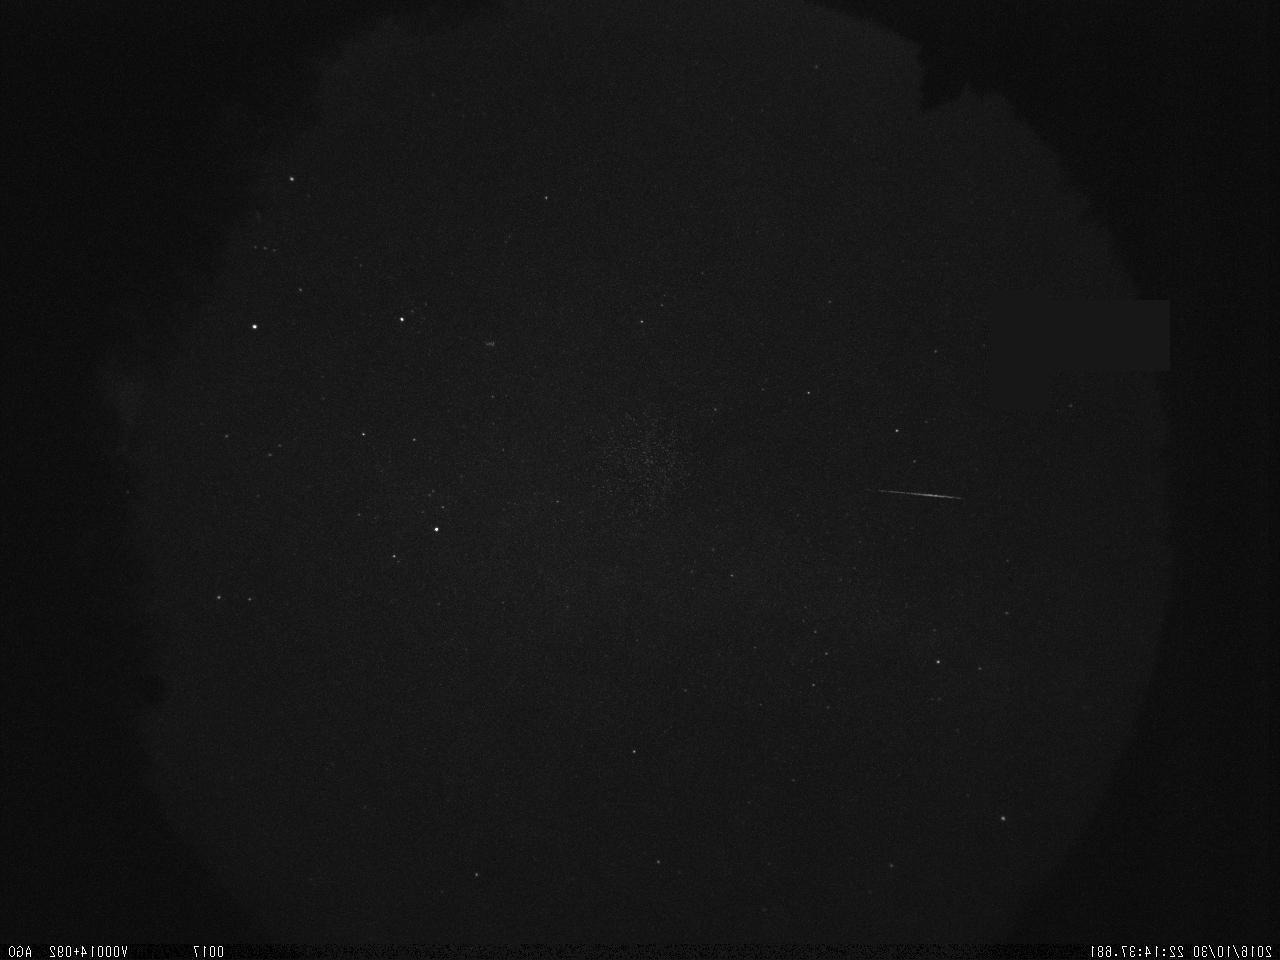meteor: (857, 483, 974, 508)
